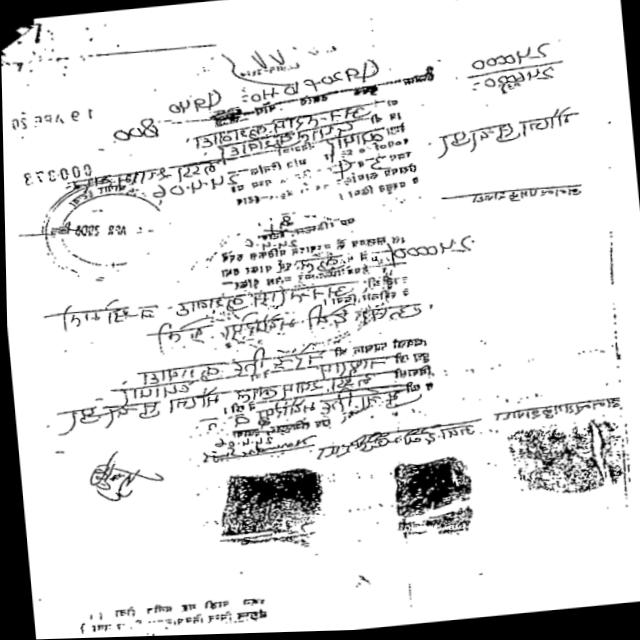govtstamp: (23, 157, 202, 293)
